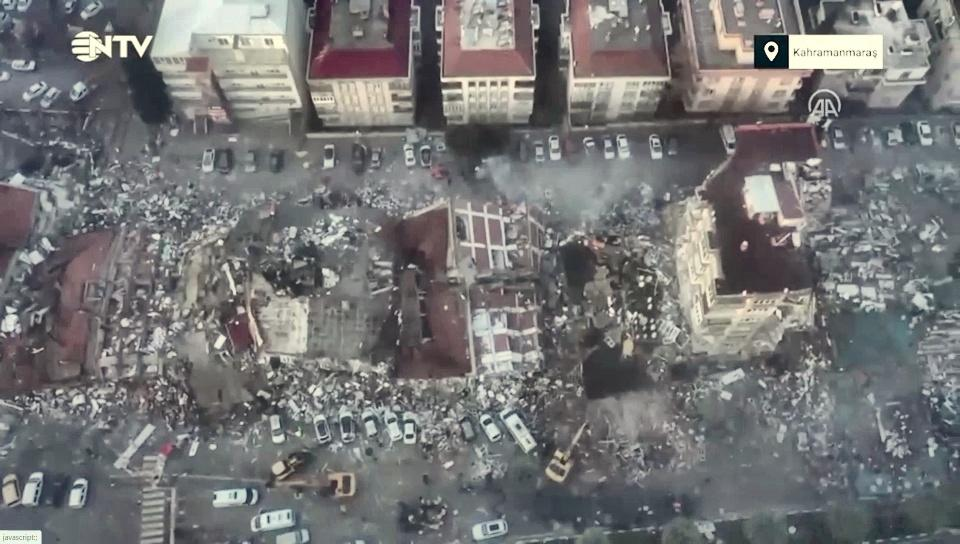kapali: (715, 349, 959, 518)
